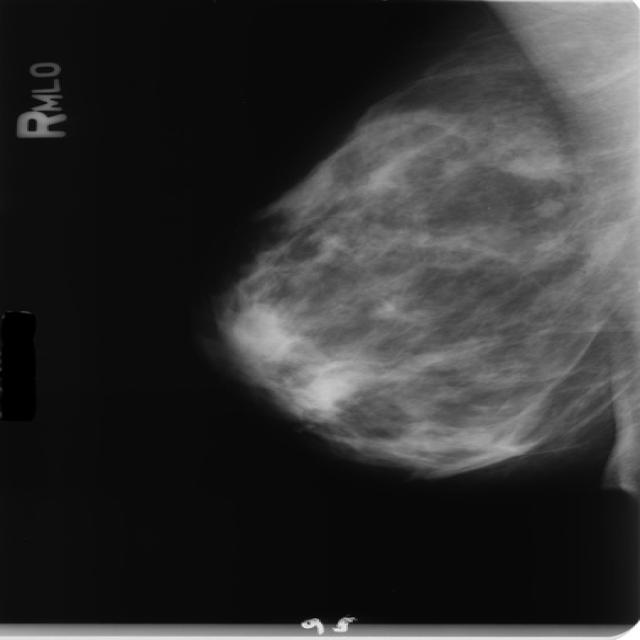tumour: (530, 196, 562, 217)
